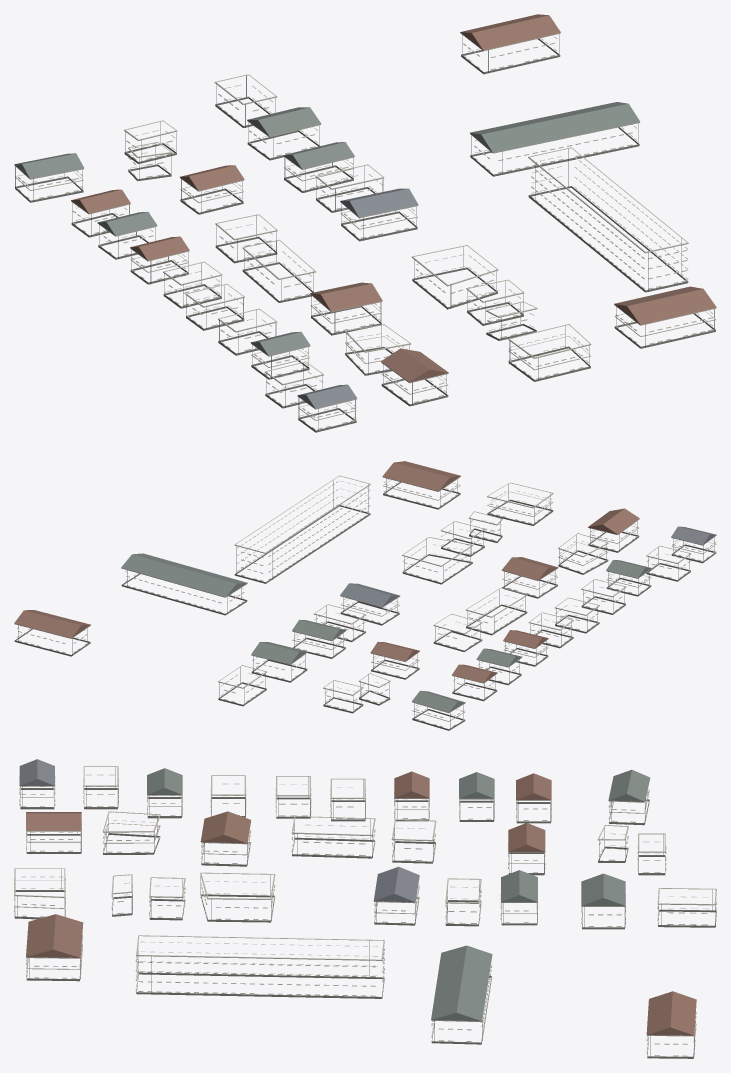
The model's file is district_0_-2.glb.
3 renders of one model, top to bottom at view 1: azimuth 30°, elevation 25°; view 2: azimuth 150°, elevation 25°; view 3: azimuth 270°, elevation 25°, orthographic. The views are drawn at different scales.
Parts seen in each view (by area): view 1: MasonryTrim, RoofMetal, MetalDetails; view 2: MasonryTrim, RoofMetal, MetalDetails; view 3: RoofMetal, MasonryTrim, MetalDetails.
Part boxes in pixels (x1=…): MasonryTrim: x1=14, y1=32, x2=716, y2=432; RoofMetal: x1=14, y1=14, x2=716, y2=408; MetalDetails: x1=15, y1=34, x2=714, y2=431; MasonryTrim: x1=14, y1=475, x2=716, y2=730; RoofMetal: x1=14, y1=461, x2=716, y2=712; MetalDetails: x1=18, y1=478, x2=714, y2=729; RoofMetal: x1=19, y1=759, x2=696, y2=1035; MasonryTrim: x1=14, y1=766, x2=716, y2=1058; MetalDetails: x1=17, y1=767, x2=715, y2=1058.
Size of the model in its own units: 185 by 12.5 by 204.
